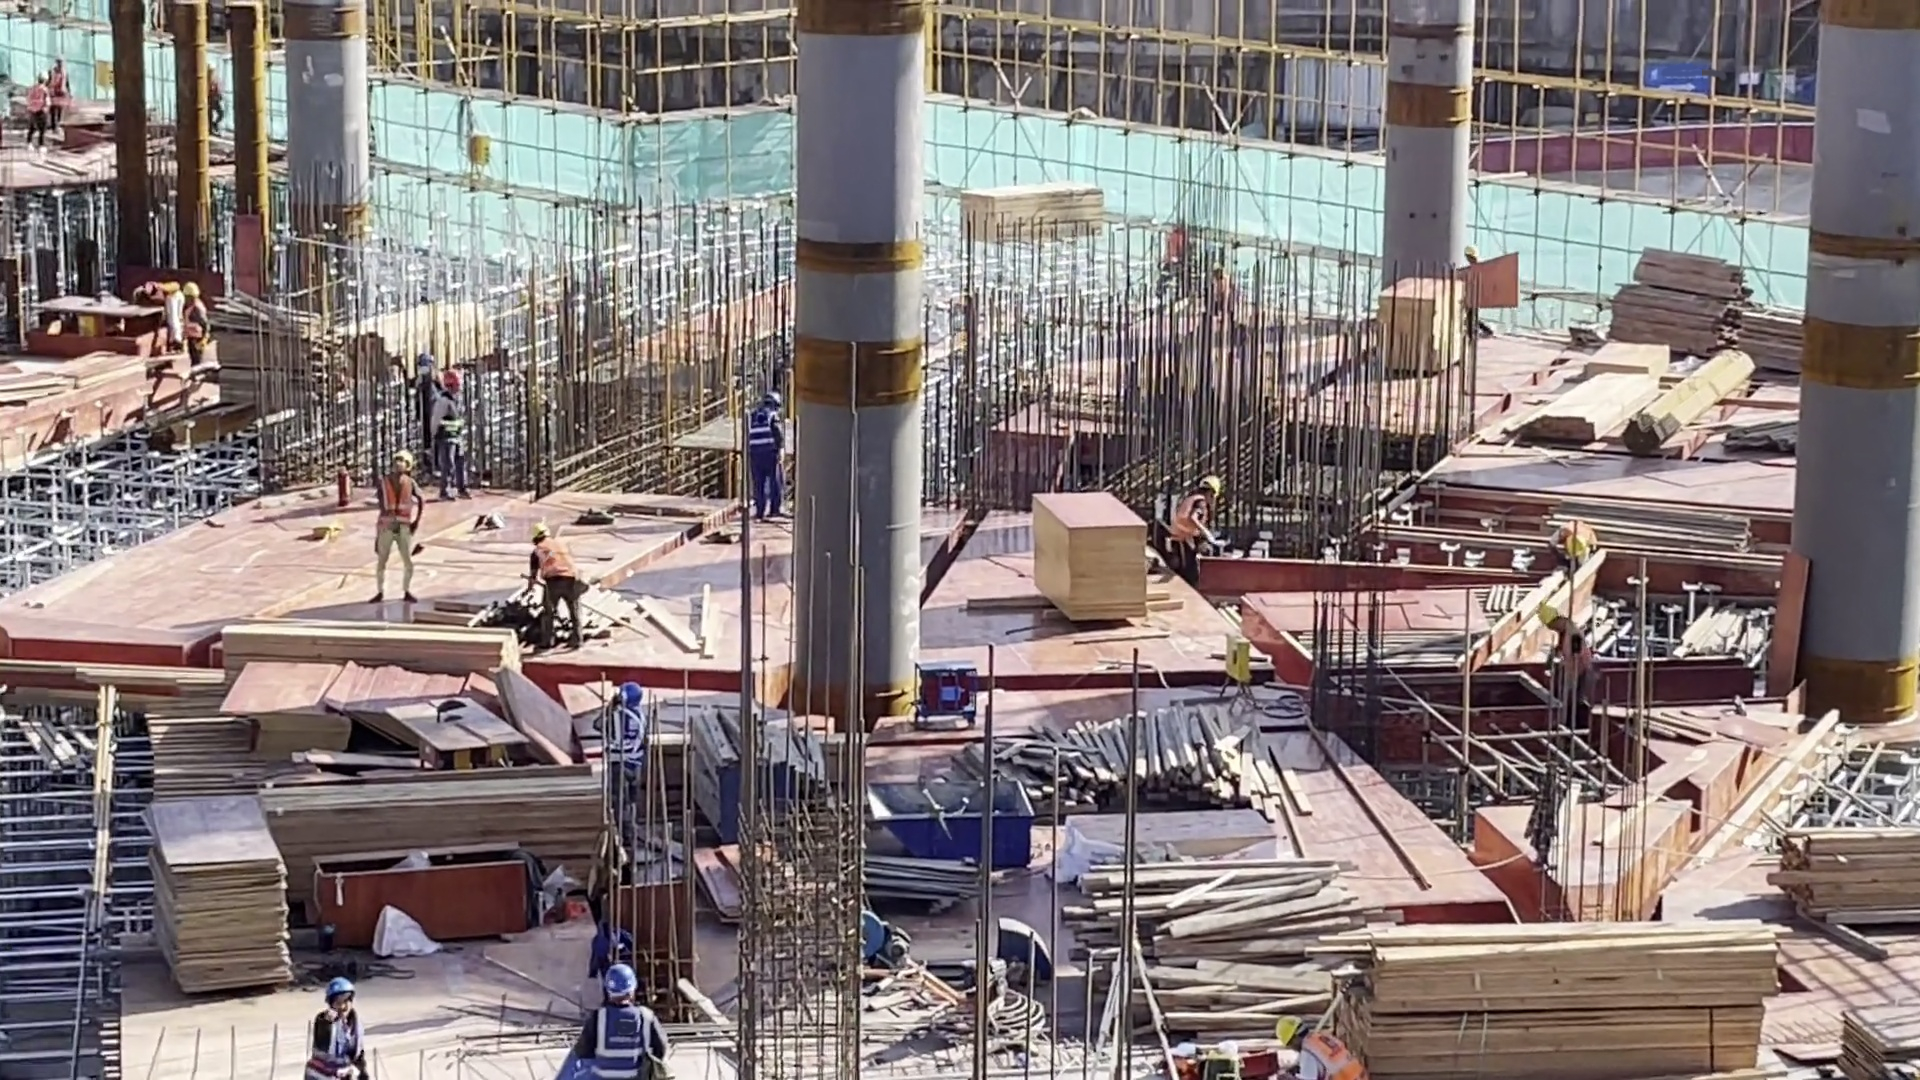board: (144, 804, 311, 1004), (1049, 479, 1178, 637), (1383, 262, 1464, 382), (224, 664, 364, 716), (1844, 997, 1918, 1080)
ebox: (1218, 636, 1264, 664)
fence: (1511, 124, 1811, 174)
helmet: (581, 947, 633, 1000), (614, 686, 656, 710), (447, 371, 475, 405), (388, 448, 422, 475), (1202, 473, 1228, 503), (317, 989, 364, 1001), (1567, 538, 1590, 558), (763, 392, 785, 411), (1545, 597, 1559, 625), (421, 353, 442, 369), (533, 523, 549, 543), (1207, 258, 1226, 274), (189, 280, 202, 300), (1463, 249, 1483, 262), (1165, 256, 1181, 270), (207, 57, 221, 71), (133, 288, 149, 298), (56, 54, 67, 67), (35, 71, 50, 81)
hopper: (851, 777, 1036, 866)
person: (599, 681, 671, 835), (1533, 596, 1600, 718), (576, 963, 641, 1080), (533, 531, 589, 653), (383, 455, 434, 585), (306, 973, 362, 1080), (1173, 480, 1228, 573), (1269, 1018, 1346, 1080), (434, 366, 473, 486), (1457, 238, 1497, 347), (132, 282, 190, 355), (751, 393, 786, 513), (1551, 517, 1610, 579), (1203, 261, 1235, 358), (180, 282, 211, 376), (413, 353, 443, 448), (203, 71, 232, 156), (1149, 256, 1189, 313), (47, 53, 72, 128), (25, 72, 45, 155)
rebar: (439, 1013, 973, 1046)
vest: (584, 1011, 649, 1069), (541, 541, 586, 614), (609, 704, 651, 774), (1173, 496, 1218, 557), (318, 1004, 358, 1071), (1559, 611, 1586, 686), (753, 416, 789, 471), (441, 377, 468, 437), (1556, 496, 1599, 532), (1314, 1039, 1349, 1080), (393, 481, 418, 539), (416, 364, 436, 417), (24, 83, 49, 117), (1154, 267, 1181, 296), (150, 276, 178, 301), (1214, 271, 1231, 311), (189, 293, 201, 343), (48, 69, 64, 102), (212, 82, 225, 105)
wood: (1358, 904, 1788, 1062), (1069, 852, 1336, 1027), (311, 774, 621, 876), (1644, 266, 1829, 397), (1066, 679, 1273, 774), (1778, 831, 1920, 930), (1508, 351, 1651, 449), (966, 167, 1139, 247)
